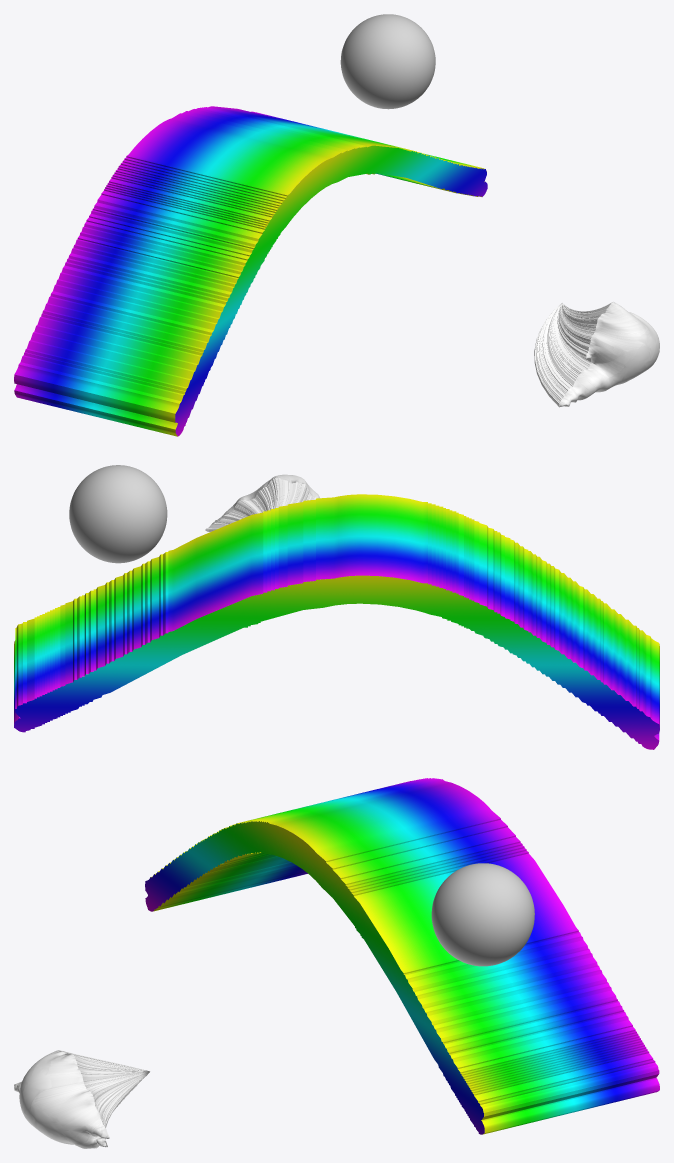
Rendered from rainbow2.gltf.
3 renders of one model, top to bottom at view 1: azimuth 30°, elevation 25°; view 2: azimuth 150°, elevation 25°; view 3: azimuth 270°, elevation 25°, orthographic. The views are drawn at different scales.
Visible parts, largest first — view 1: Vector Smart Object 2, Vector Smart Object, Sphere; view 2: Vector Smart Object 2, Sphere, Vector Smart Object; view 3: Vector Smart Object 2, Sphere, Vector Smart Object.
Boxes of the visible parts, bbox=[...] form: Vector Smart Object 2: bbox=[14, 106, 487, 436]; Vector Smart Object: bbox=[534, 302, 659, 407]; Sphere: bbox=[340, 14, 435, 109]; Vector Smart Object 2: bbox=[14, 494, 659, 749]; Sphere: bbox=[69, 465, 167, 563]; Vector Smart Object: bbox=[205, 474, 319, 531]; Vector Smart Object 2: bbox=[145, 778, 659, 1134]; Sphere: bbox=[431, 863, 534, 966]; Vector Smart Object: bbox=[14, 1050, 149, 1148].
Size of the model in its own units: 6.3 by 2.54 by 5.9.
Materials: 3 (1 with a texture image).
